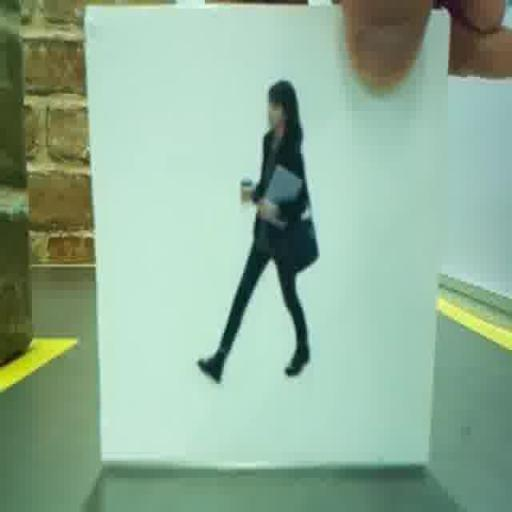human: (198, 80, 318, 381)
